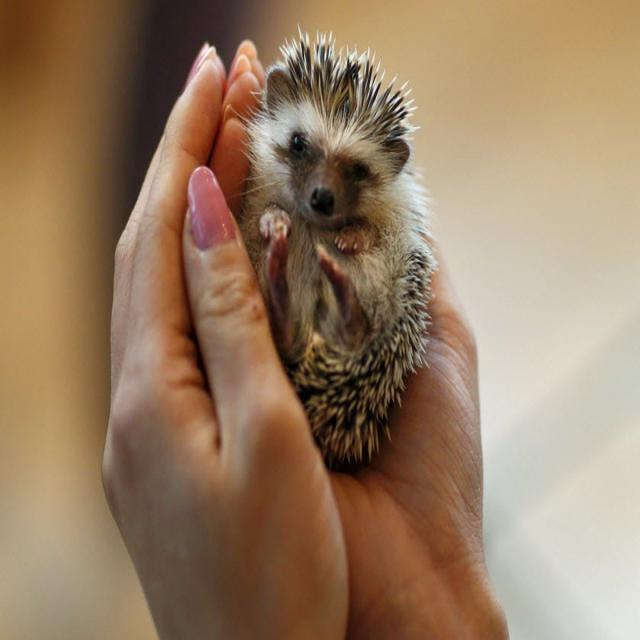Hedgehog: (254, 21, 436, 472)
